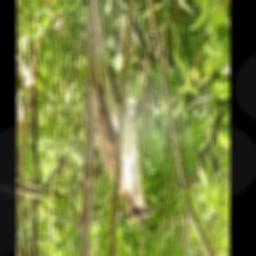Cuckoo: (90, 0, 153, 224)
